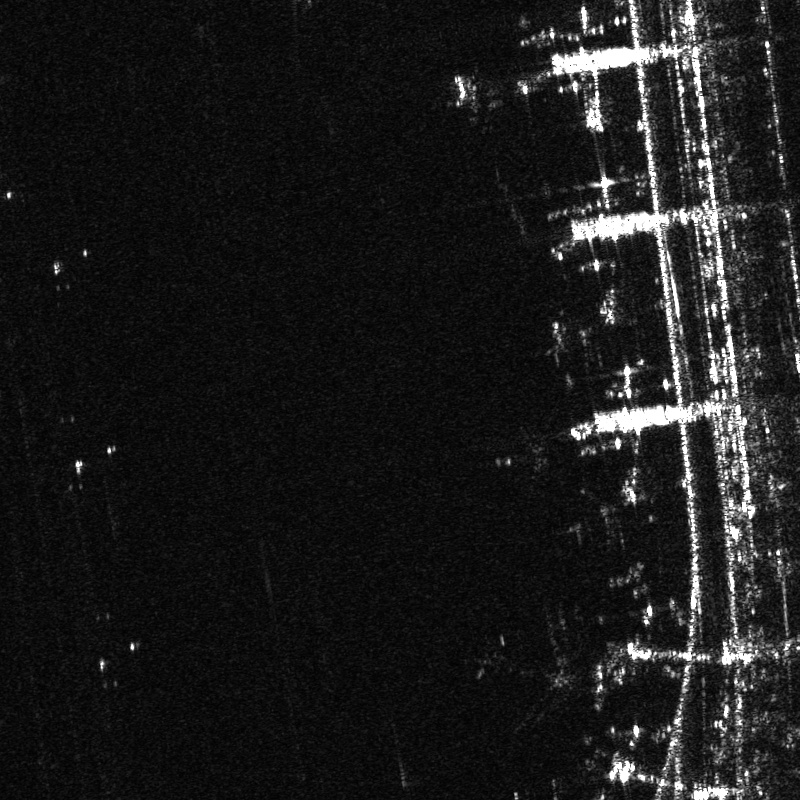Boeing787: (489, 420, 561, 489)
other: (464, 602, 583, 735)
